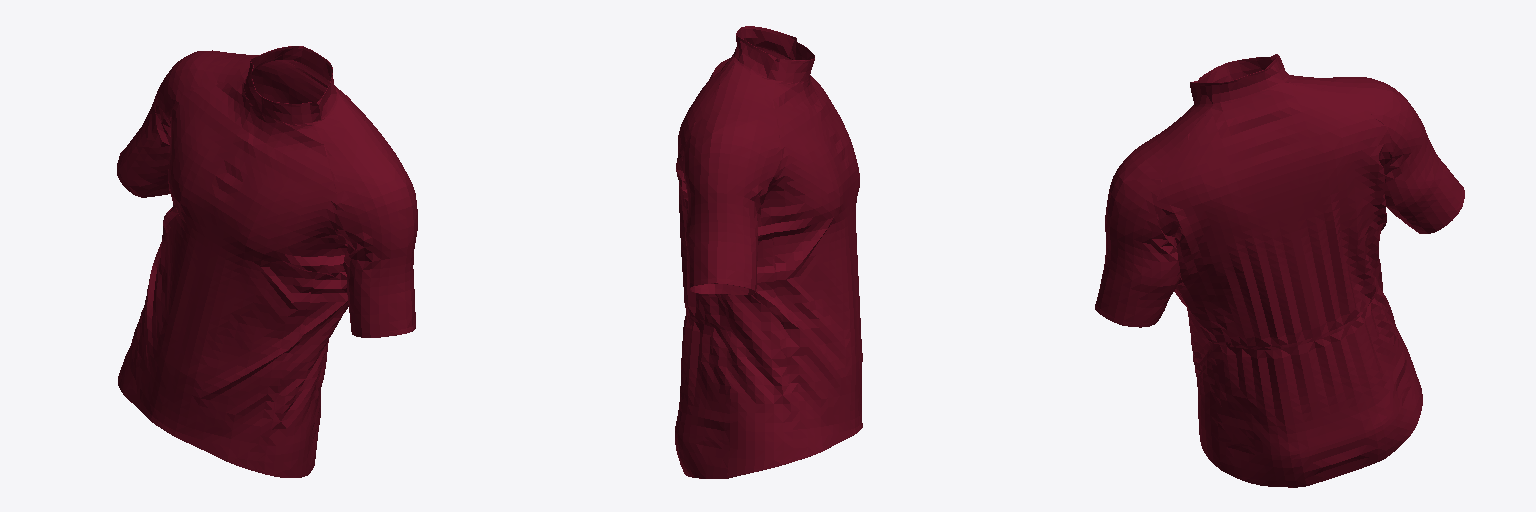
Rendered from shirt.obj.
3 renders of one model, left to right at view 1: azimuth 30°, elevation 25°; view 2: azimuth 150°, elevation 25°; view 3: azimuth 270°, elevation 25°, orthographic.
Visible parts, largest first — view 1: Merged_Meshes; view 2: Merged_Meshes; view 3: Merged_Meshes.
Part boxes in pixels (x1,y1,x2,y2): Merged_Meshes: (117,46,417,477); Merged_Meshes: (675,26,862,478); Merged_Meshes: (1095,54,1464,487).
Size of the model in its own units: 35.71 by 72.66 by 59.2.